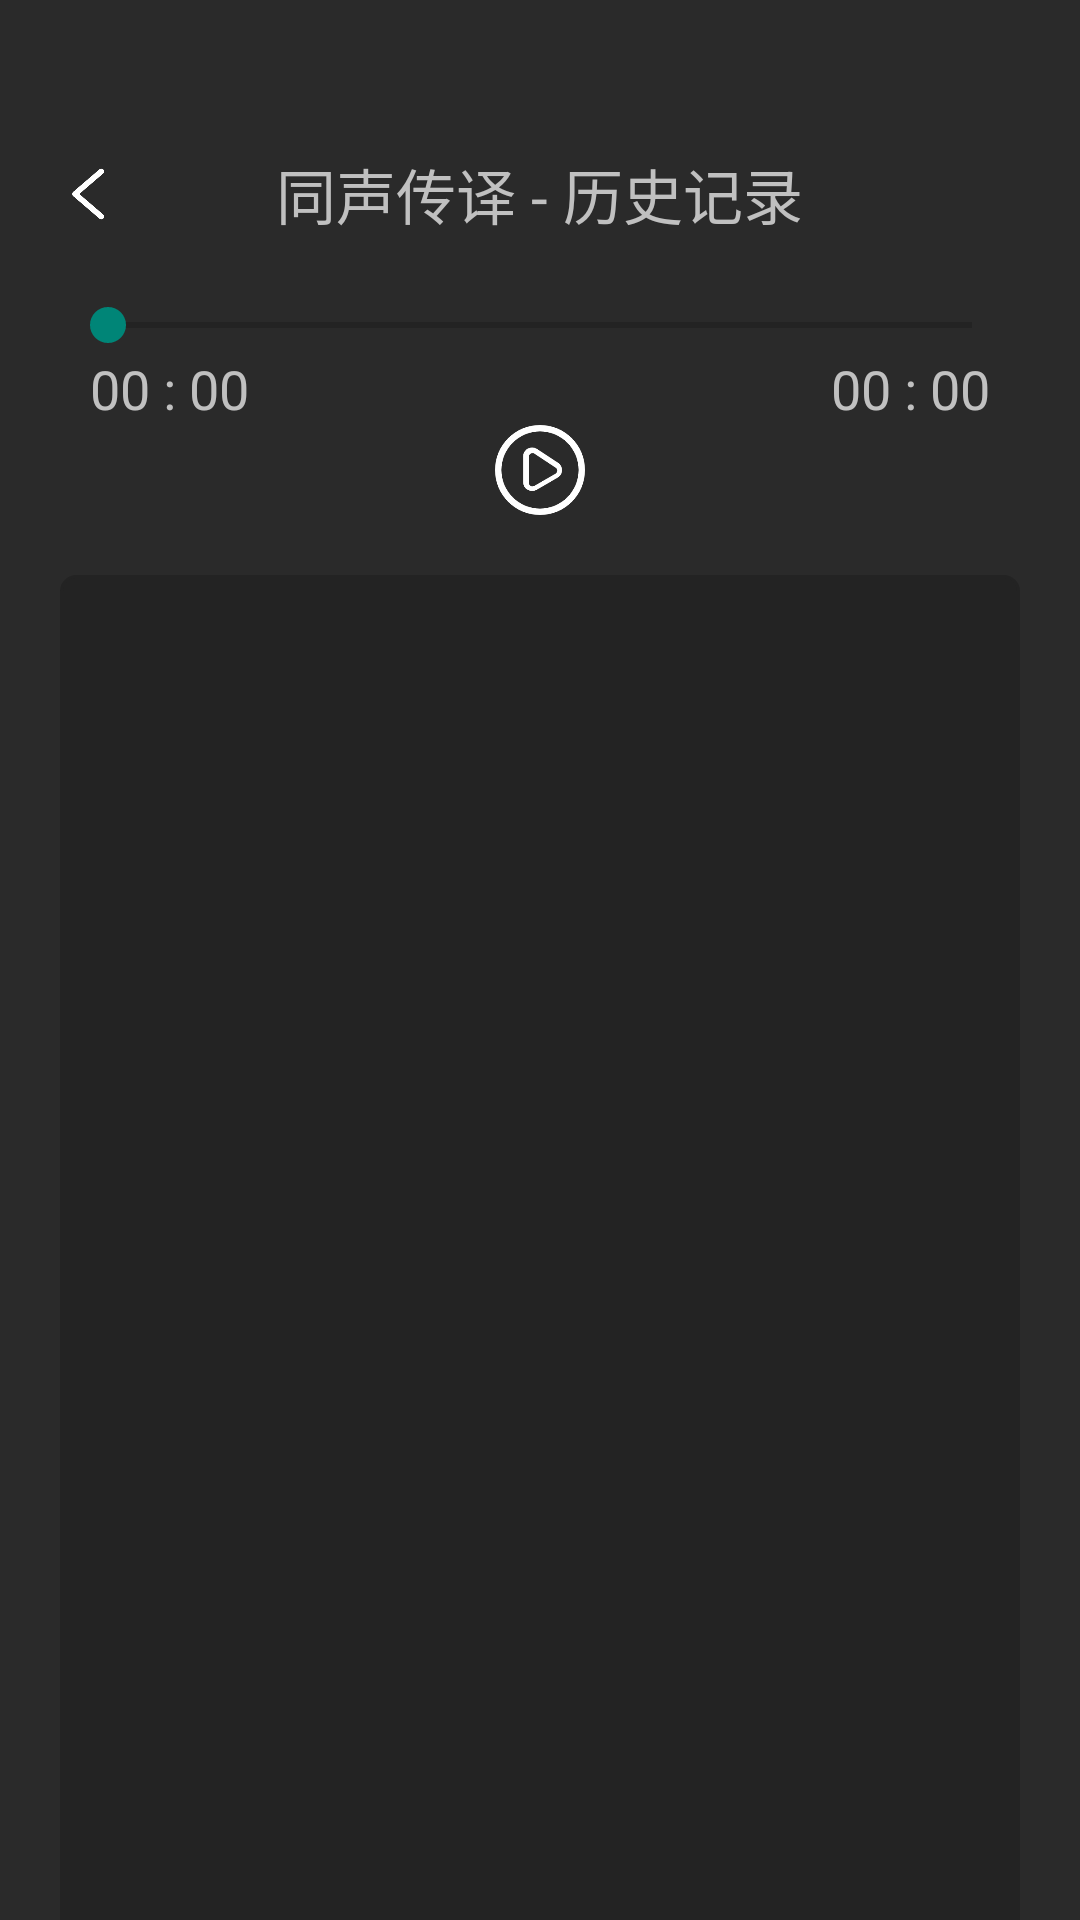

Where icons sit on this 1080px×1920px app screen, as bbox=(x1, y1, x2, y2):
continue: bbox=(495, 425, 585, 515)
left: bbox=(72, 169, 104, 220)
